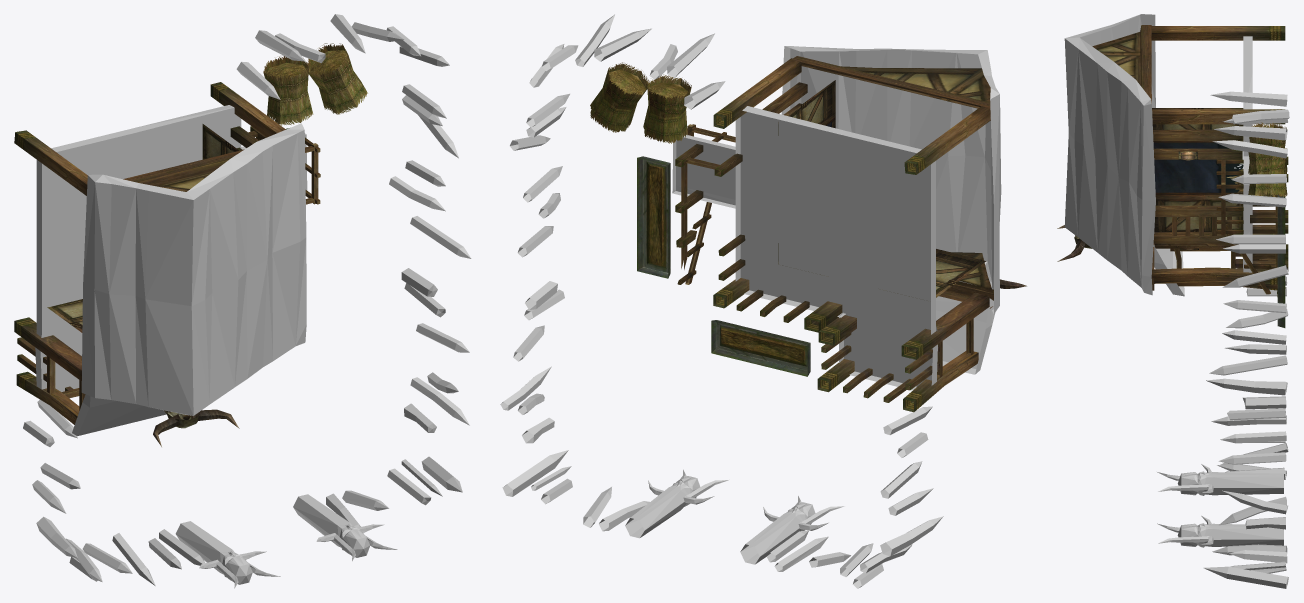
File: zhanchang_fuben_303_shoulan02.obj
The picture shows the model from 3 angles, left to right: view 1: azimuth 30°, elevation 25°; view 2: azimuth 150°, elevation 25°; view 3: azimuth 270°, elevation 25°; orthographic projection. The views are drawn at different scales.
Parts seen in each view (by area): view 1: zhanchang_fuben_303_shoulan_02; view 2: zhanchang_fuben_303_shoulan_02; view 3: zhanchang_fuben_303_shoulan_02.
Part boxes in pixels (x1,y1,x2,y2): zhanchang_fuben_303_shoulan_02: [14, 14, 471, 588]; zhanchang_fuben_303_shoulan_02: [500, 14, 1026, 588]; zhanchang_fuben_303_shoulan_02: [1057, 14, 1289, 588].
Size of the model in its own units: 562 by 626 by 302.
